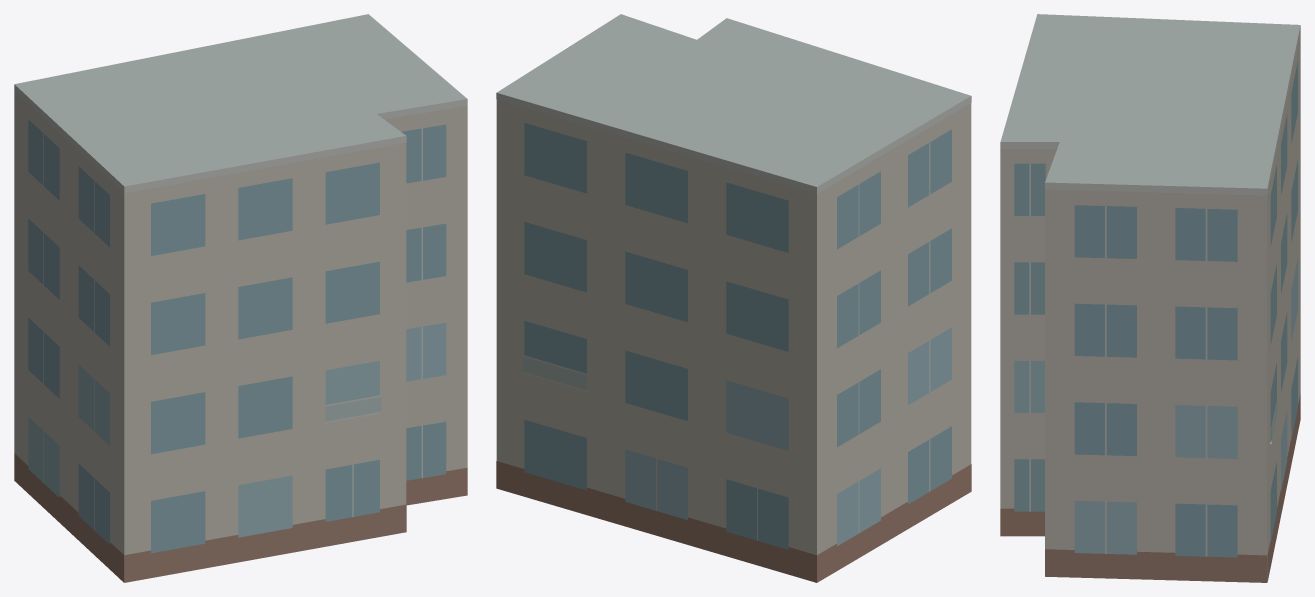
The model's file is survey-upis-32813932.glb.
3 views of the same model, side by side, from view 1: azimuth 30°, elevation 25°; view 2: azimuth 150°, elevation 25°; view 3: azimuth 270°, elevation 25° (orthographic).
Visible parts, largest first — view 1: survey-upis-32813932.tmp; view 2: survey-upis-32813932.tmp; view 3: survey-upis-32813932.tmp.
Part boxes in pixels (left/top/right/bottom): survey-upis-32813932.tmp: left=14, top=14, right=467, bottom=582; survey-upis-32813932.tmp: left=496, top=14, right=971, bottom=582; survey-upis-32813932.tmp: left=1000, top=14, right=1300, bottom=582.
Bounding box in the file's own units: 13.5 × 14.2 × 9.81.
